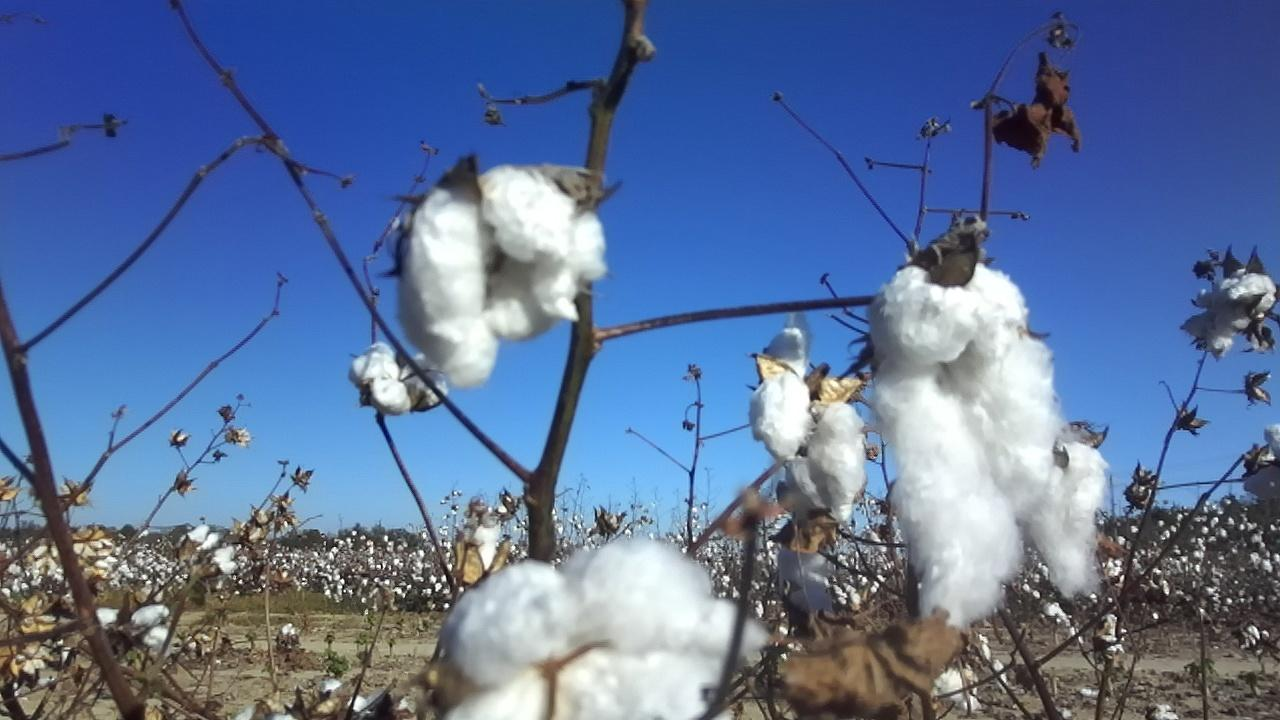cotton_ready: (874, 265, 1054, 631), (441, 535, 715, 720), (397, 165, 609, 391), (750, 322, 868, 525), (1026, 437, 1105, 597), (350, 340, 445, 417), (774, 524, 838, 618), (1217, 270, 1279, 333), (1185, 285, 1234, 355), (454, 519, 508, 575), (1245, 425, 1280, 497)
